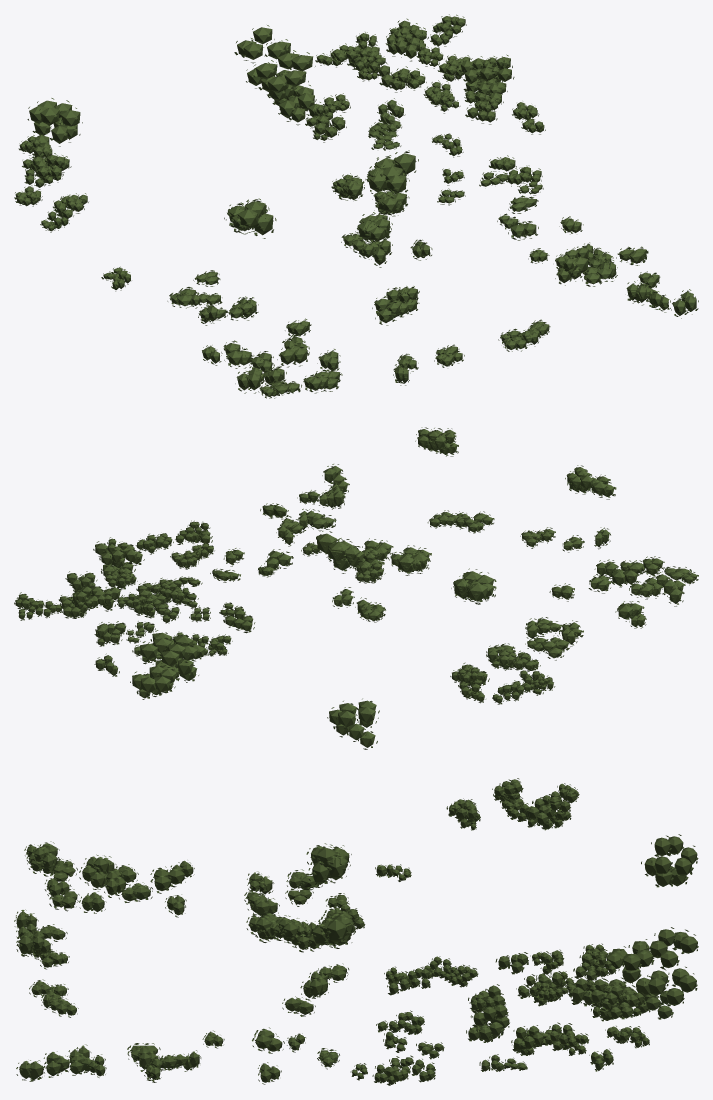
Rendered from woodland-backdrop.glb.
The picture shows the model from 3 angles, top to bottom: view 1: azimuth 30°, elevation 25°; view 2: azimuth 150°, elevation 25°; view 3: azimuth 270°, elevation 25°; orthographic projection. The views are drawn at different scales.
Visible parts, largest first — view 1: WoodlandBackdrop_1, WoodlandBackdrop_3, WoodlandBackdrop_2, WoodlandBackdrop_4; view 2: WoodlandBackdrop_1, WoodlandBackdrop_3, WoodlandBackdrop_2, WoodlandBackdrop_4; view 3: WoodlandBackdrop_1, WoodlandBackdrop_3, WoodlandBackdrop_2, WoodlandBackdrop_4.
Boxes of the visible parts, <box> form: WoodlandBackdrop_1: <box>167,190,698,398</box>; WoodlandBackdrop_3: <box>14,18,514,230</box>; WoodlandBackdrop_2: <box>40,87,545,291</box>; WoodlandBackdrop_4: <box>27,14,466,148</box>; WoodlandBackdrop_1: <box>223,427,698,660</box>; WoodlandBackdrop_3: <box>34,537,541,704</box>; WoodlandBackdrop_2: <box>135,520,555,695</box>; WoodlandBackdrop_4: <box>14,592,379,749</box>; WoodlandBackdrop_1: <box>14,841,322,1084</box>; WoodlandBackdrop_3: <box>455,778,632,1071</box>; WoodlandBackdrop_2: <box>295,798,477,1085</box>; WoodlandBackdrop_4: <box>606,834,698,1048</box>.
Bounding box in the file's own units: 117 × 22.6 × 131.
